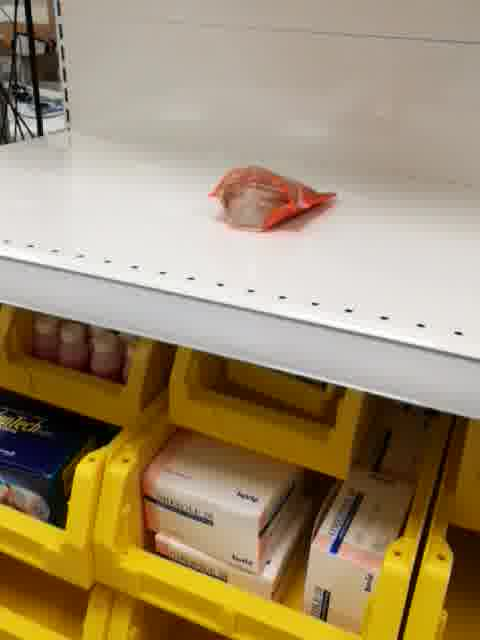whitechia: (207, 161, 338, 233)
